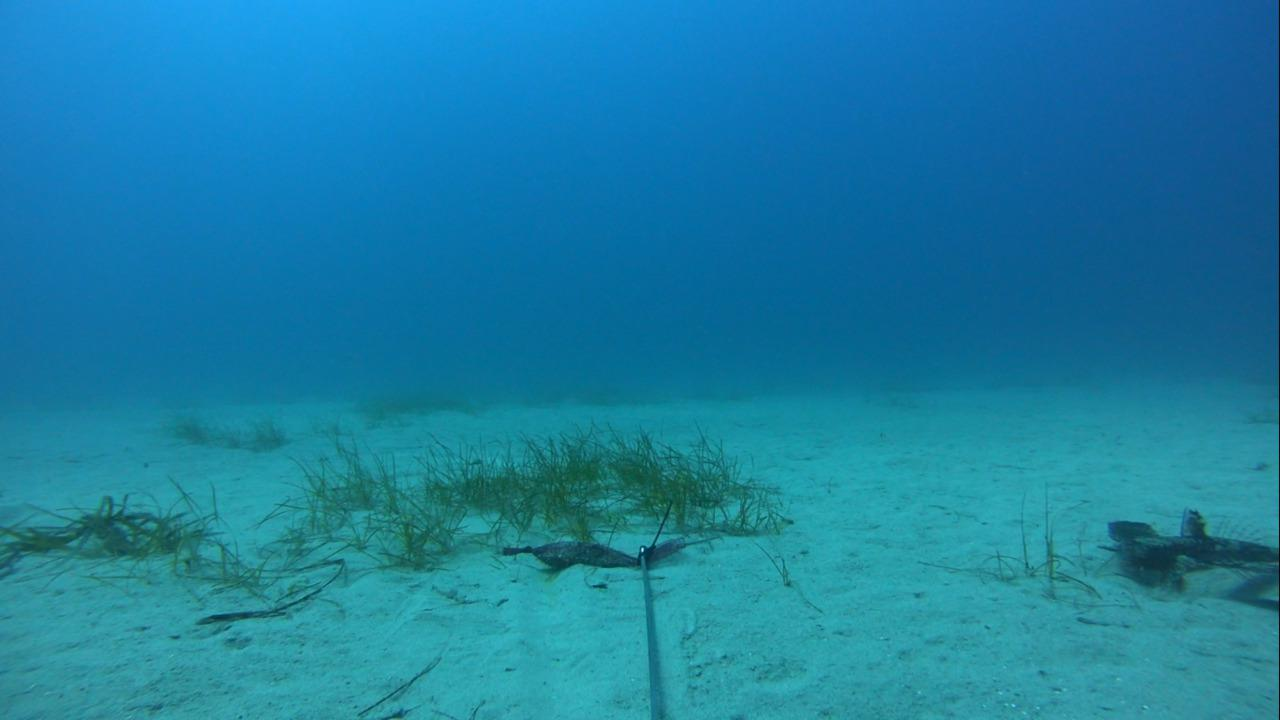dactylopterus: (1097, 506, 1279, 621)
